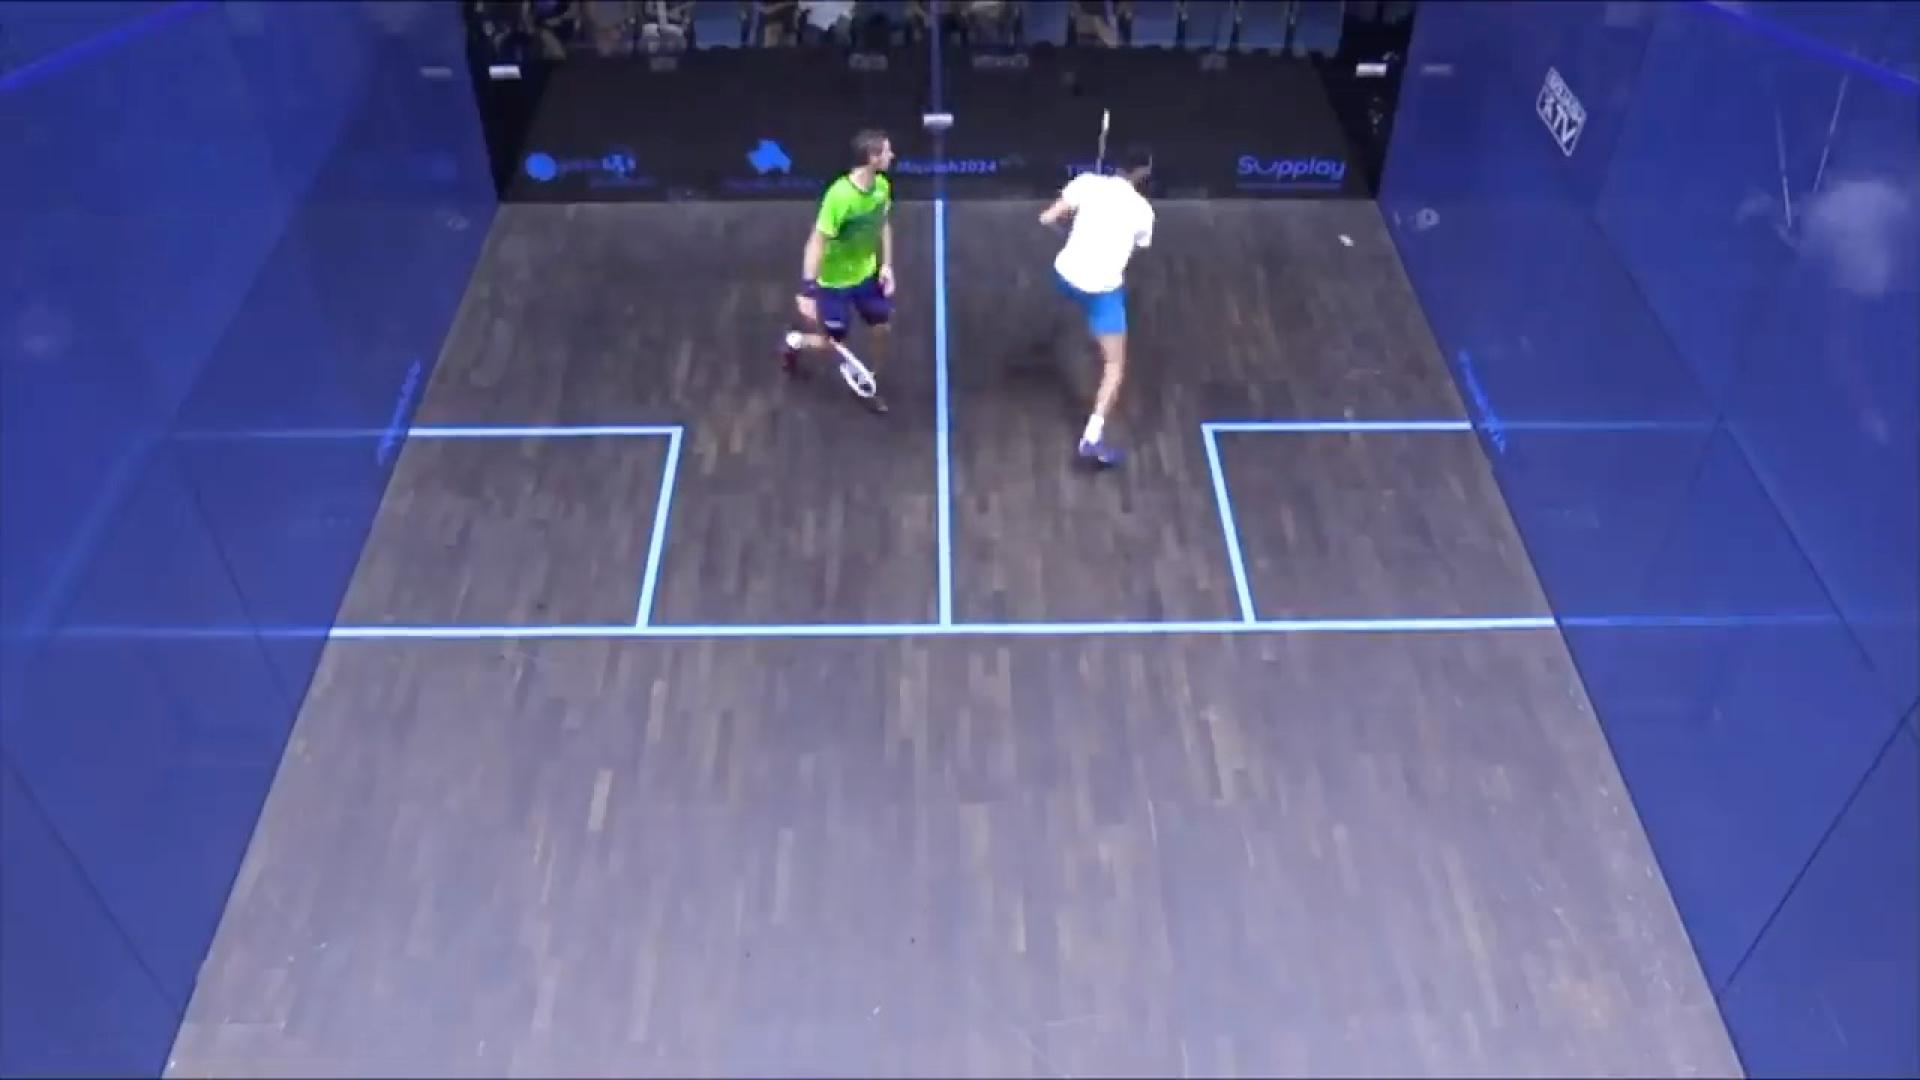Squash-Ball: (1332, 225, 1370, 255)
